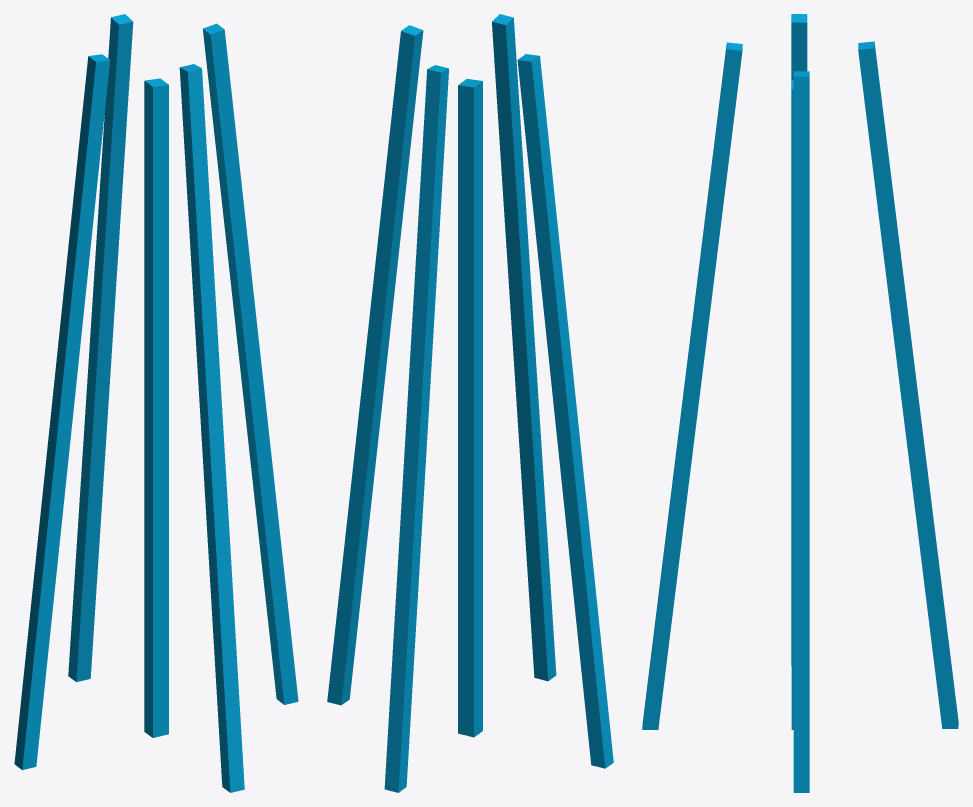
The model's file is Water_Tower_Collider.fbx.
3 views of the same model, side by side, from view 1: azimuth 30°, elevation 25°; view 2: azimuth 150°, elevation 25°; view 3: azimuth 270°, elevation 25° (orthographic).
Parts seen in each view (by area): view 1: Water_Tower_Collider; view 2: Water_Tower_Collider; view 3: Water_Tower_Collider.
Part boxes in pixels (x1,y1,x2,y2): Water_Tower_Collider: (14,14,298,792); Water_Tower_Collider: (327,14,613,792); Water_Tower_Collider: (642,14,958,792).
Size of the model in its own units: 964 by 2290 by 964.
